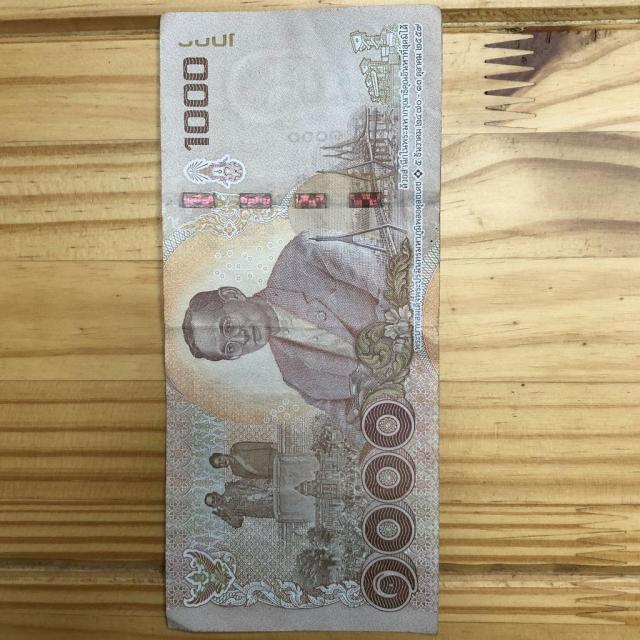THAI1000: (160, 6, 441, 633)
